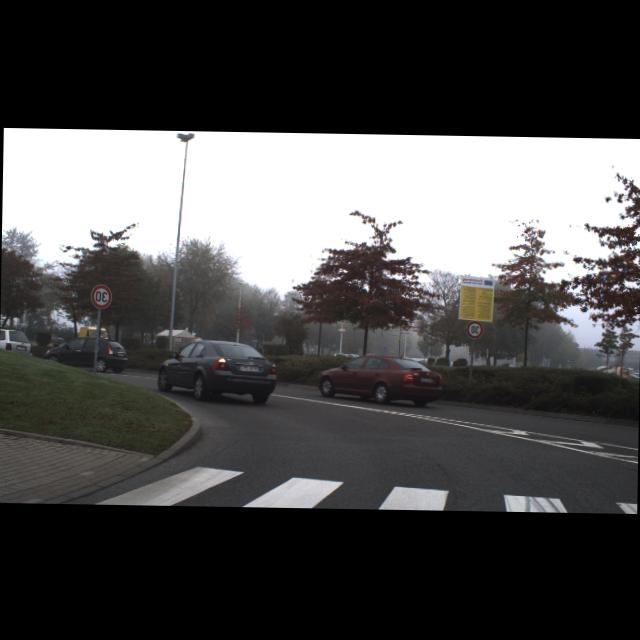prohibitory: (91, 282, 112, 308), (466, 319, 484, 338)
